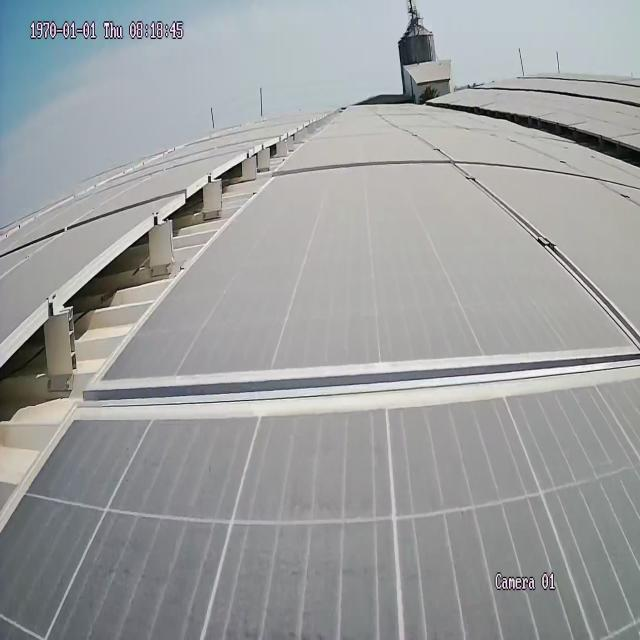interior panel: (95, 144, 640, 423)
outher panel: (1, 109, 339, 532), (487, 103, 640, 178)
